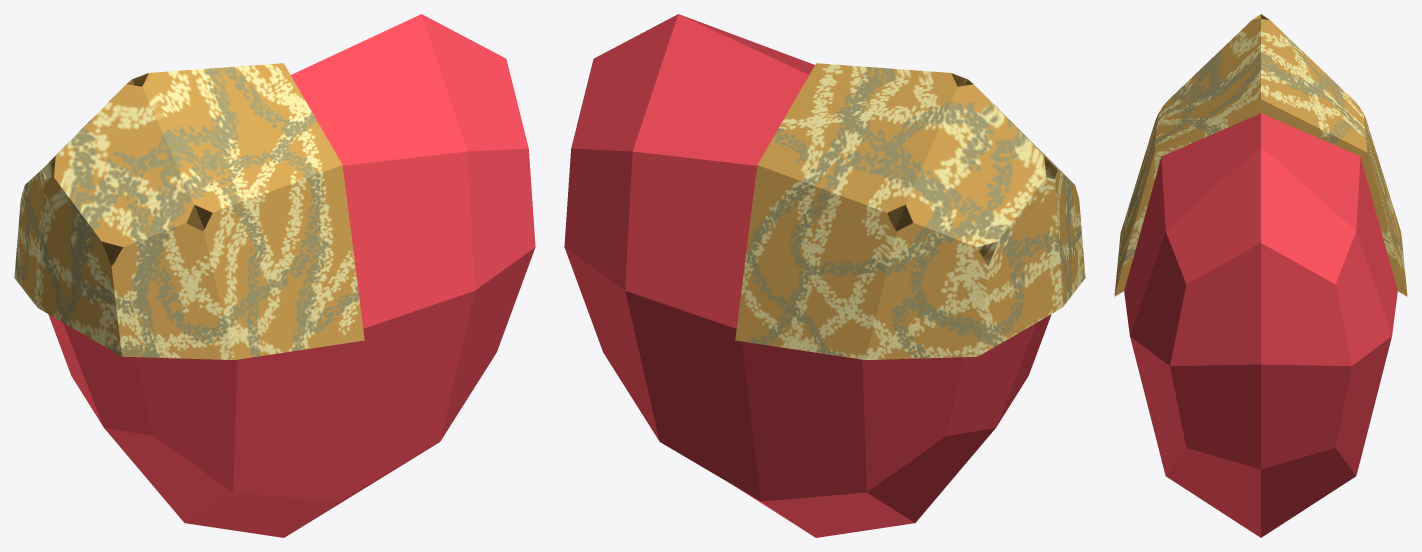
File: WoodwindSonataHeart.fbx
3 views of the same model, side by side, from view 1: azimuth 30°, elevation 25°; view 2: azimuth 150°, elevation 25°; view 3: azimuth 270°, elevation 25° (orthographic). The views are drawn at different scales.
Visible parts, largest first — view 1: Cube.001; view 2: Cube.001; view 3: Cube.001.
Part boxes in pixels (left/top/right/bottom): Cube.001: left=14, top=14, right=535, bottom=537; Cube.001: left=564, top=14, right=1085, bottom=537; Cube.001: left=1114, top=14, right=1407, bottom=537.
Size of the model in its own units: 236 by 236 by 139.
